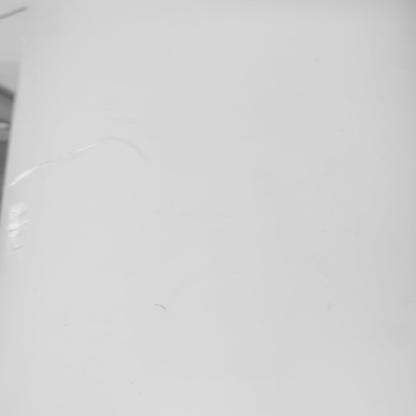sunshang: (2, 140, 109, 192), (7, 201, 33, 252)
